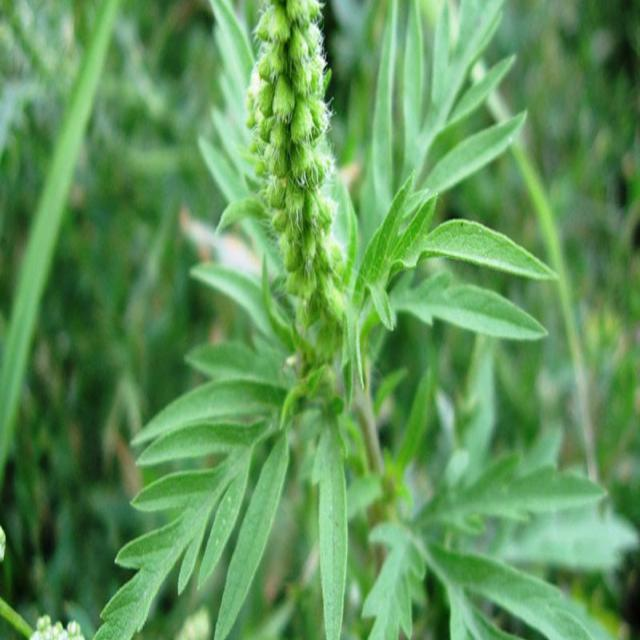ambrosia: (204, 0, 408, 447)
